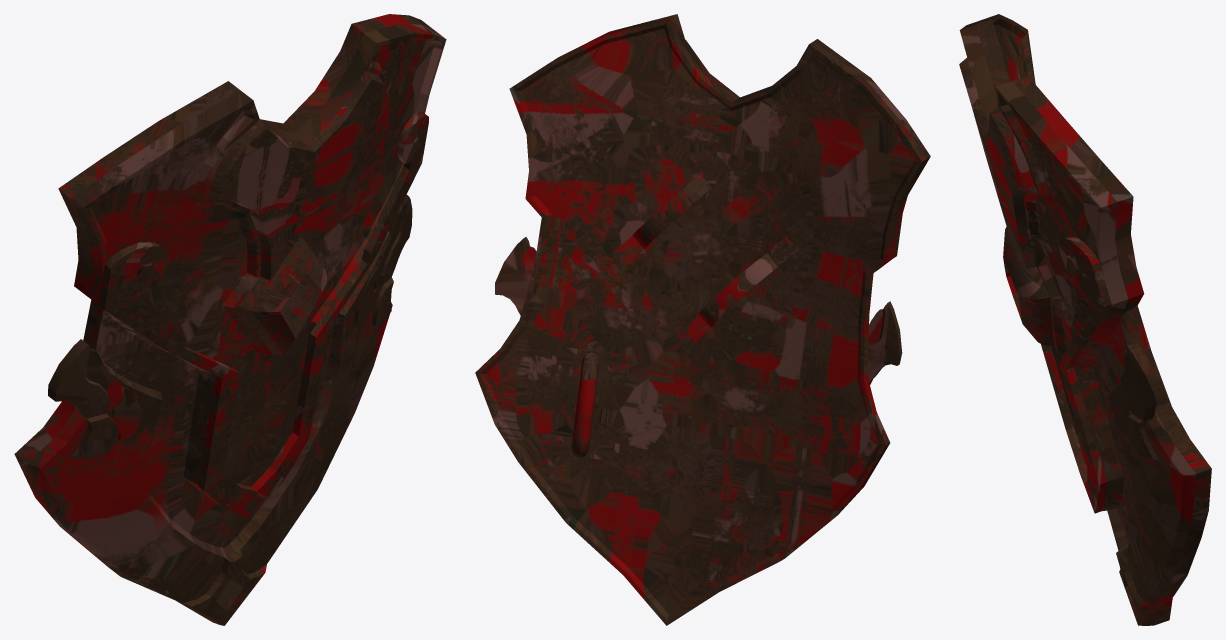
The model's file is shield_2.FBX.
3 renders of one model, left to right at view 1: azimuth 30°, elevation 25°; view 2: azimuth 150°, elevation 25°; view 3: azimuth 270°, elevation 25°, orthographic. The views are drawn at different scales.
Visible parts, largest first — view 1: Base HumanRForearm; view 2: Base HumanRForearm; view 3: Base HumanRForearm.
Part boxes in pixels (x1=…): Base HumanRForearm: x1=14, y1=14, x2=446, y2=625; Base HumanRForearm: x1=475, y1=14, x2=930, y2=625; Base HumanRForearm: x1=959, y1=14, x2=1211, y2=625.
Bounding box in the file's own units: 70.87 × 99.67 × 39.25.
